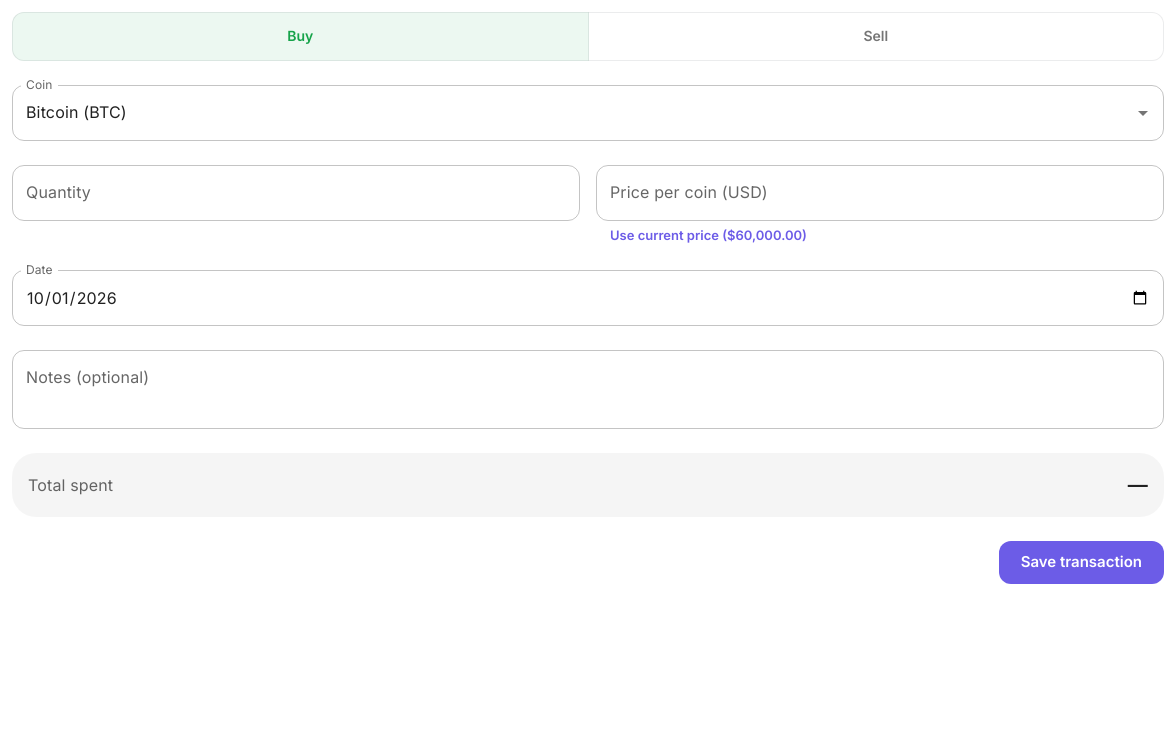
Test case: TransactionForm › fills in the current price
Click the button "Use current price ($60,000.00)" at point(708, 235), box [610,224,807,246]
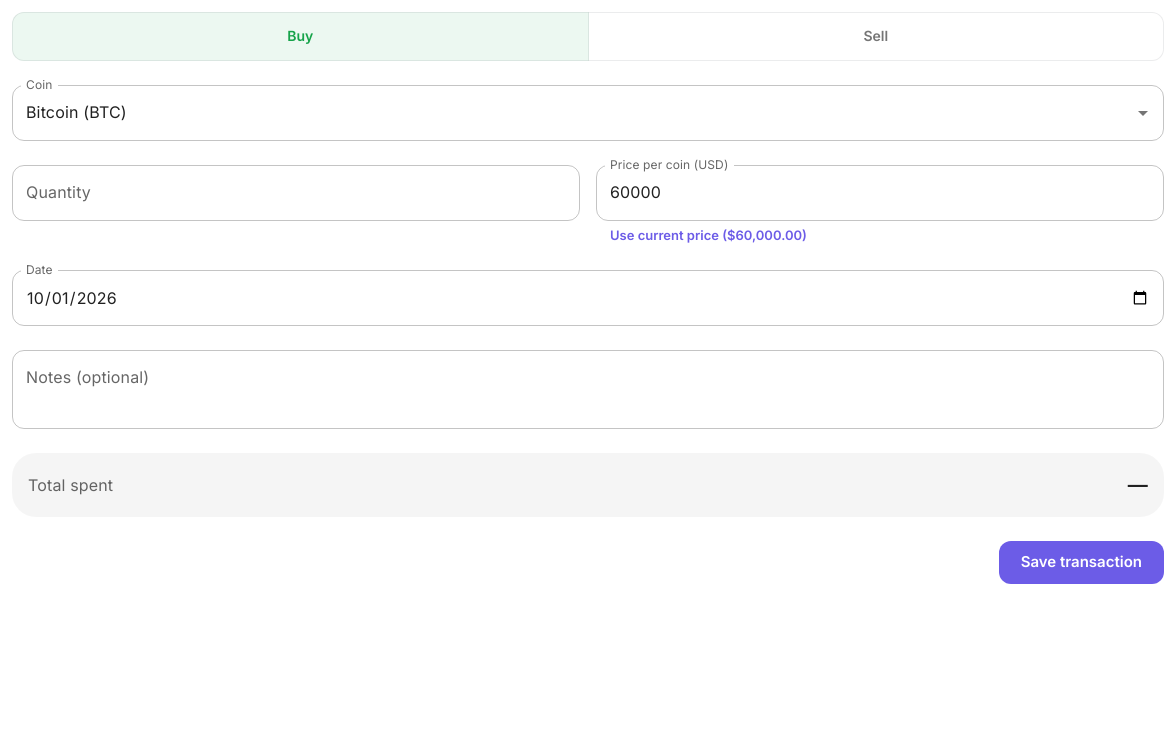
Check: the number field labelled "Price per coin (USD)" holds "60000", box [596,164,1164,220]
